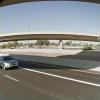Bridge: (4, 25, 100, 51)
